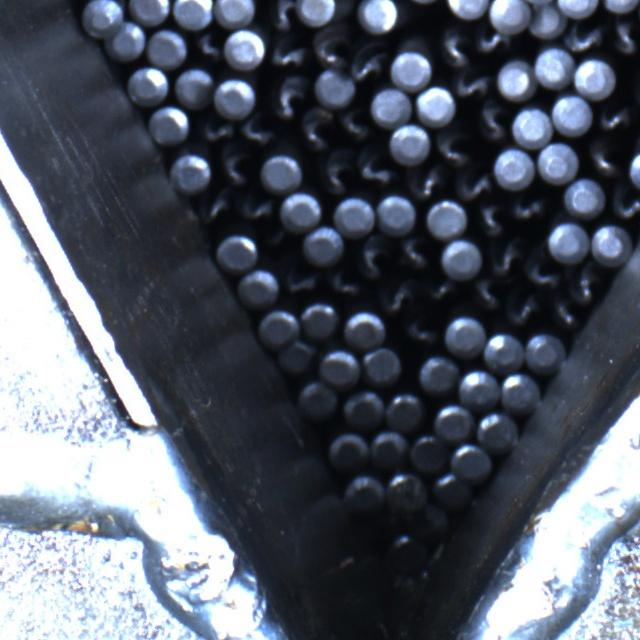tool: (342, 473, 386, 516), (524, 330, 566, 374), (223, 28, 266, 70), (546, 220, 588, 263), (494, 147, 536, 190), (562, 175, 604, 218), (538, 142, 580, 185), (215, 76, 258, 118), (375, 193, 417, 236), (499, 369, 542, 411), (444, 313, 485, 357), (414, 84, 456, 126), (169, 152, 211, 194), (147, 25, 189, 67), (575, 55, 617, 97), (333, 195, 375, 237), (150, 103, 192, 145), (476, 410, 518, 452), (484, 331, 526, 373), (387, 472, 429, 514), (496, 56, 536, 100), (535, 46, 575, 90), (391, 122, 432, 164), (426, 197, 468, 238), (258, 308, 300, 349), (302, 303, 344, 344), (590, 223, 630, 266), (459, 366, 502, 406), (299, 383, 342, 423), (343, 311, 387, 350), (552, 93, 592, 135), (512, 104, 552, 146), (280, 192, 322, 232), (127, 64, 169, 104), (391, 50, 433, 90), (174, 68, 214, 110), (261, 153, 303, 193), (302, 226, 344, 266), (451, 442, 493, 482), (320, 346, 362, 386), (342, 390, 384, 430), (240, 268, 282, 308), (417, 353, 459, 393), (313, 69, 355, 109), (80, 0, 122, 40), (215, 230, 259, 268), (441, 238, 482, 278), (386, 392, 427, 432), (371, 86, 412, 126), (328, 429, 370, 468), (107, 20, 147, 60), (362, 346, 402, 386), (387, 534, 427, 574), (432, 403, 472, 441), (367, 428, 407, 466), (411, 434, 449, 472), (278, 340, 318, 376), (434, 474, 474, 510), (358, 0, 402, 32), (490, 0, 532, 32), (528, 2, 564, 38), (213, 0, 255, 28), (294, 0, 336, 28), (173, 0, 213, 29), (128, 1, 170, 24), (445, 0, 488, 18), (556, 0, 598, 16), (629, 144, 640, 189), (602, 1, 640, 12)
tool_b: (266, 75, 310, 123), (354, 143, 398, 190), (350, 40, 390, 86), (318, 148, 356, 196), (433, 126, 475, 168), (312, 25, 352, 69), (488, 234, 528, 278), (216, 144, 256, 188), (436, 24, 474, 70), (296, 108, 334, 153), (357, 233, 392, 280), (473, 99, 511, 142), (380, 274, 420, 314), (584, 142, 624, 182), (267, 34, 308, 72), (395, 233, 435, 271), (402, 312, 444, 348), (506, 290, 544, 328), (408, 163, 447, 200), (568, 264, 604, 304), (236, 189, 276, 225), (336, 105, 374, 142), (196, 188, 233, 226), (451, 68, 492, 102), (562, 21, 604, 54), (607, 16, 640, 58), (328, 266, 366, 302), (548, 292, 584, 330), (282, 264, 322, 298), (238, 114, 278, 148), (453, 167, 493, 201), (509, 192, 549, 226), (522, 256, 562, 290), (474, 23, 512, 58), (475, 199, 509, 237), (595, 100, 633, 134), (422, 272, 459, 306), (266, 0, 304, 33), (609, 185, 640, 223), (191, 28, 224, 63), (471, 276, 503, 312), (198, 116, 236, 146)
